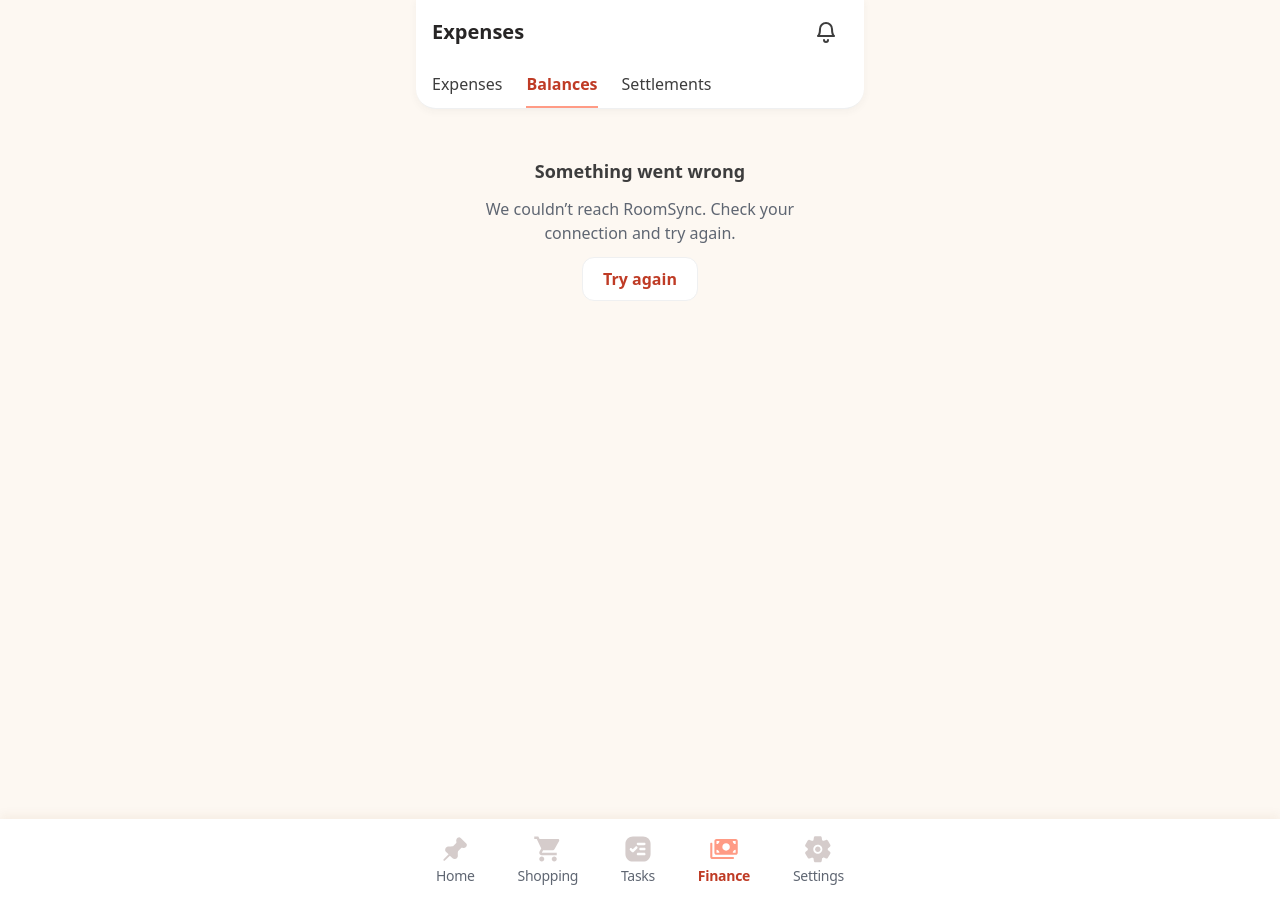
Test: balances › shows an error with retry when balances cannot load
This screenshot has width=1280, height=900.
Expected: the text "We couldn’t reach RoomSync. Check your connection and try again." is shown, [480,197,800,245]
Step 1. Click the button "Try again" → (640, 279), box [582,257,698,301]
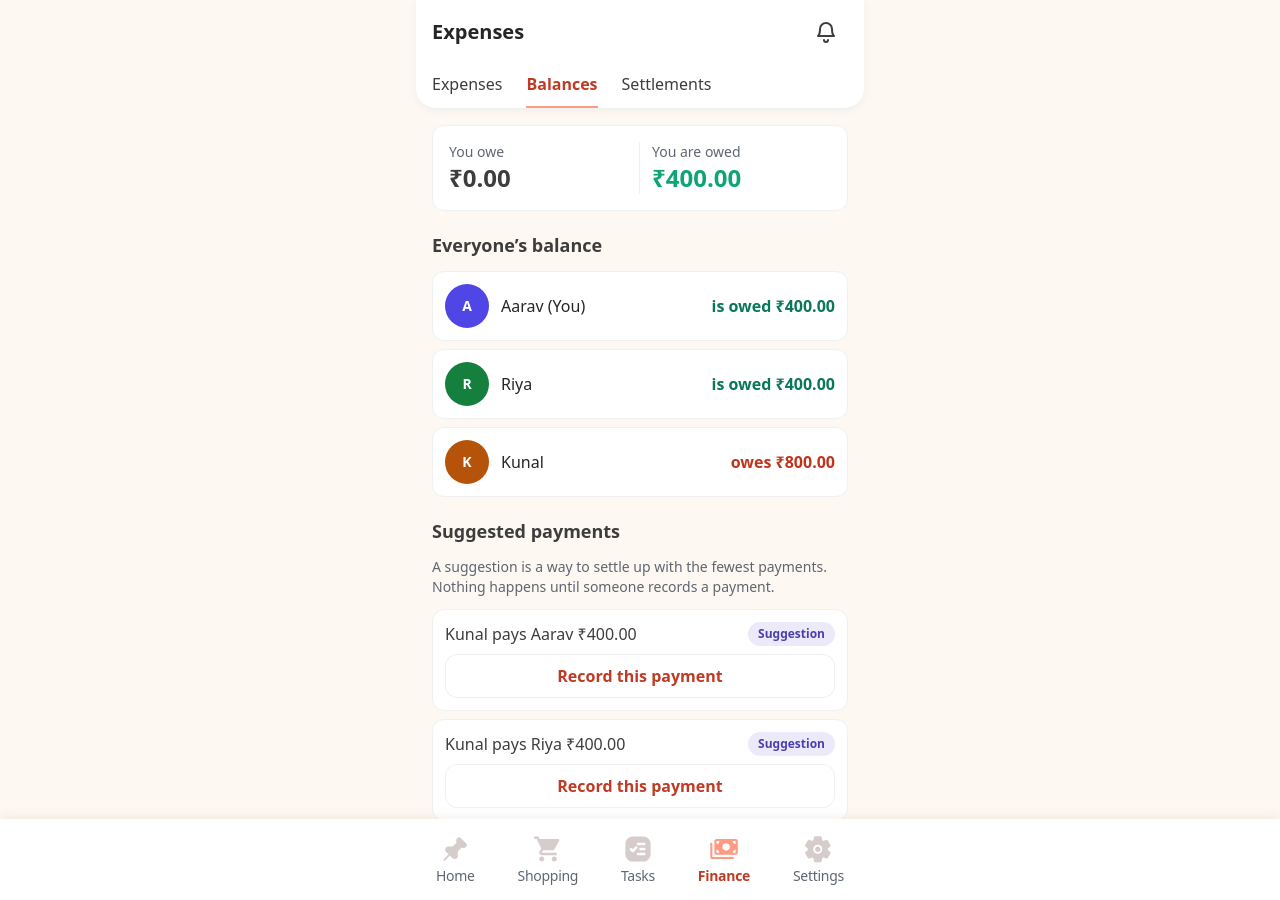
Now the text "A suggestion is a way to settle up with the fewest payments. Nothing happens until someone records a payment." is shown, box [432,557,827,596]
